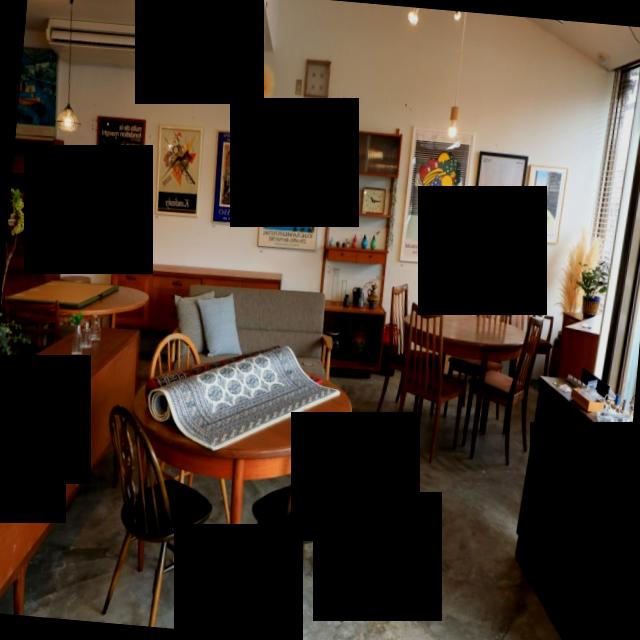chair vintage: (233, 403, 382, 640)
